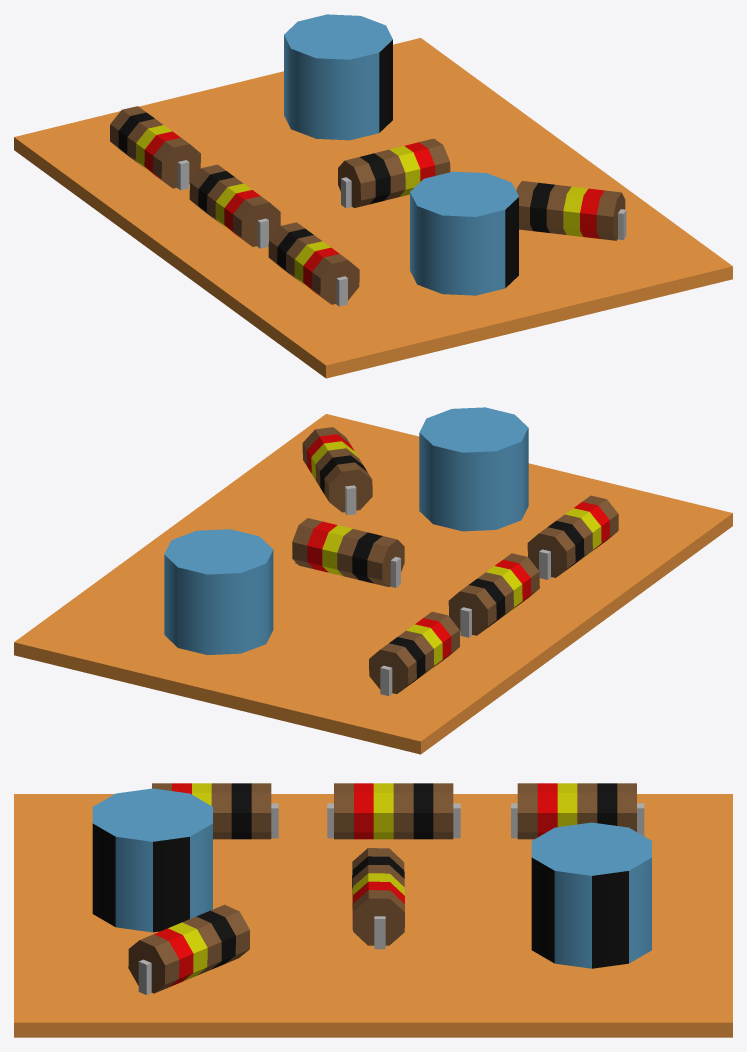
Rendered from CircuitLarge.fbx.
The picture shows the model from 3 angles, top to bottom: view 1: azimuth 30°, elevation 25°; view 2: azimuth 150°, elevation 25°; view 3: azimuth 270°, elevation 25°; orthographic projection. The views are drawn at different scales.
Parts seen in each view (by area): view 1: CircuitLarge; view 2: CircuitLarge; view 3: CircuitLarge.
Boxes of the visible parts, <box> form: CircuitLarge: <box>14,14,732,378</box>; CircuitLarge: <box>14,407,732,754</box>; CircuitLarge: <box>14,783,732,1037</box>.
Size of the model in its own units: 77.07 by 16.95 by 102.
